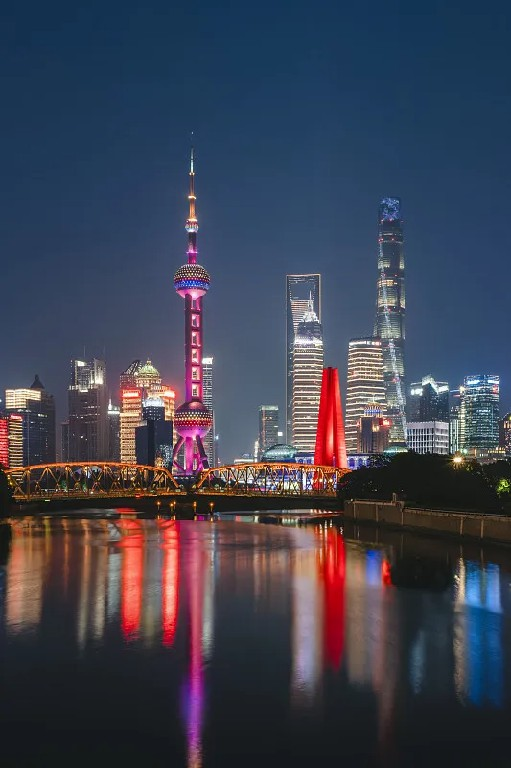Oriental: (174, 132, 211, 474)
